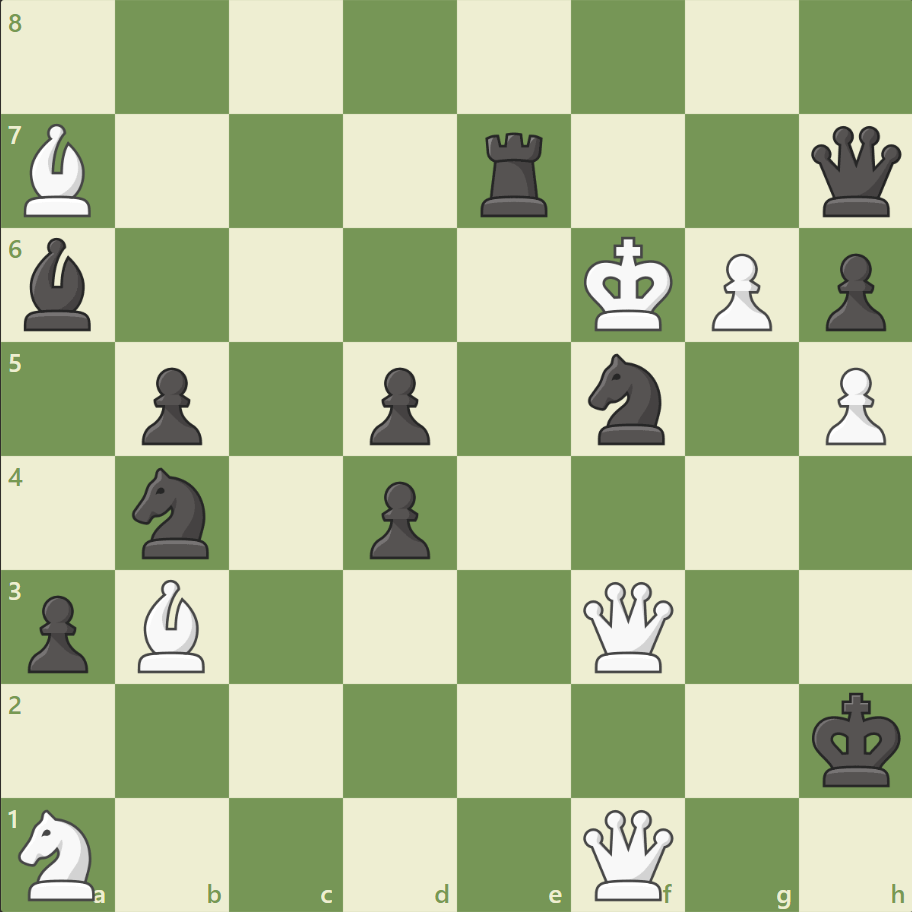B: (17, 120, 101, 222), (131, 574, 215, 676)
K: (579, 231, 679, 339)
N: (11, 802, 108, 904)
P: (701, 246, 776, 337), (815, 359, 889, 450)
Q: (578, 576, 677, 676), (578, 804, 677, 903)
b: (17, 233, 101, 336)
k: (806, 685, 906, 793)
n: (124, 461, 222, 564), (579, 348, 676, 450)
p: (133, 359, 208, 450), (20, 586, 95, 677), (815, 246, 889, 337), (361, 359, 435, 450), (361, 473, 435, 564)
q: (805, 122, 904, 222)
r: (473, 125, 556, 222)
